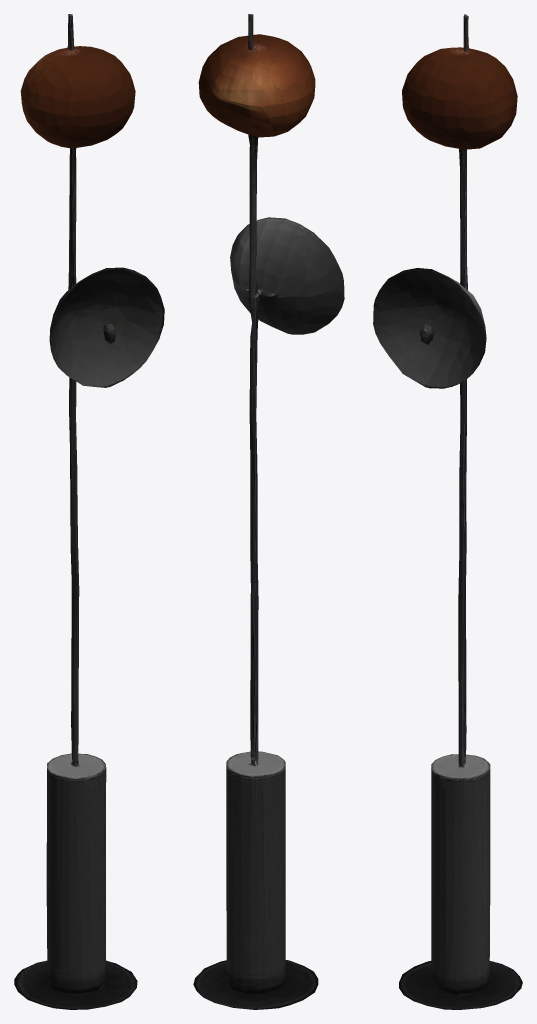
The model's file is b7eda53d-e5bf-4947-b619-0a80cb0dfc28.glb.
3 renders of one model, left to right at view 1: azimuth 30°, elevation 25°; view 2: azimuth 150°, elevation 25°; view 3: azimuth 330°, elevation 25°, orthographic.
Visible parts, largest first — view 1: world; view 2: world; view 3: world.
Part boxes in pixels (x1,y1,x2,y2): world: [14, 14, 164, 1009]; world: [193, 14, 344, 1009]; world: [373, 14, 522, 1009].
Bounding box in the file's own units: 0.1232 × 1 × 0.1305.
Materials: 1 (1 with a texture image).
